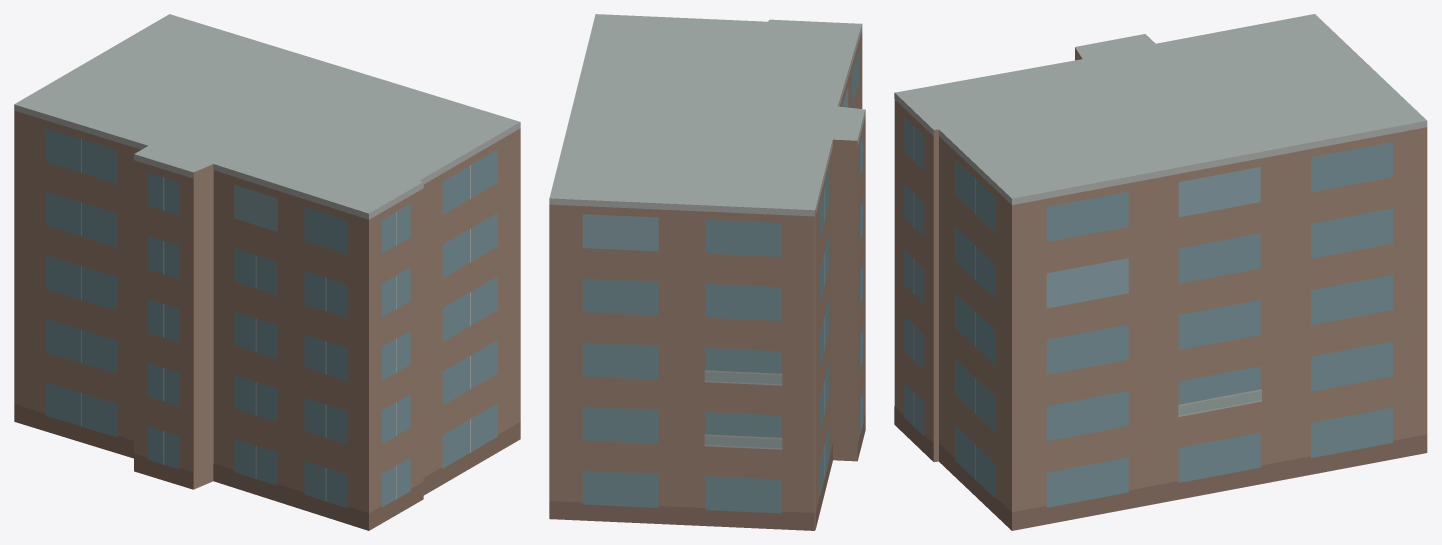
File: survey-upis-32598889.glb
3 views of the same model, side by side, from view 1: azimuth 30°, elevation 25°; view 2: azimuth 150°, elevation 25°; view 3: azimuth 270°, elevation 25° (orthographic). The views are drawn at different scales.
Parts seen in each view (by area): view 1: survey-upis-32598889.tmp; view 2: survey-upis-32598889.tmp; view 3: survey-upis-32598889.tmp.
Part boxes in pixels (x1=…): survey-upis-32598889.tmp: x1=14, y1=14, x2=520, y2=530; survey-upis-32598889.tmp: x1=549, y1=14, x2=865, y2=530; survey-upis-32598889.tmp: x1=894, y1=14, x2=1427, y2=530.
Bounding box in the file's own units: 15.04 × 12.6 × 18.33.
